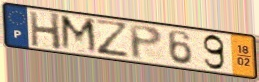6: (166, 29, 194, 67)
9: (201, 34, 226, 71)
H: (28, 10, 64, 52)
M: (59, 13, 100, 56)
P: (127, 23, 164, 61)
Z: (94, 17, 132, 59)
